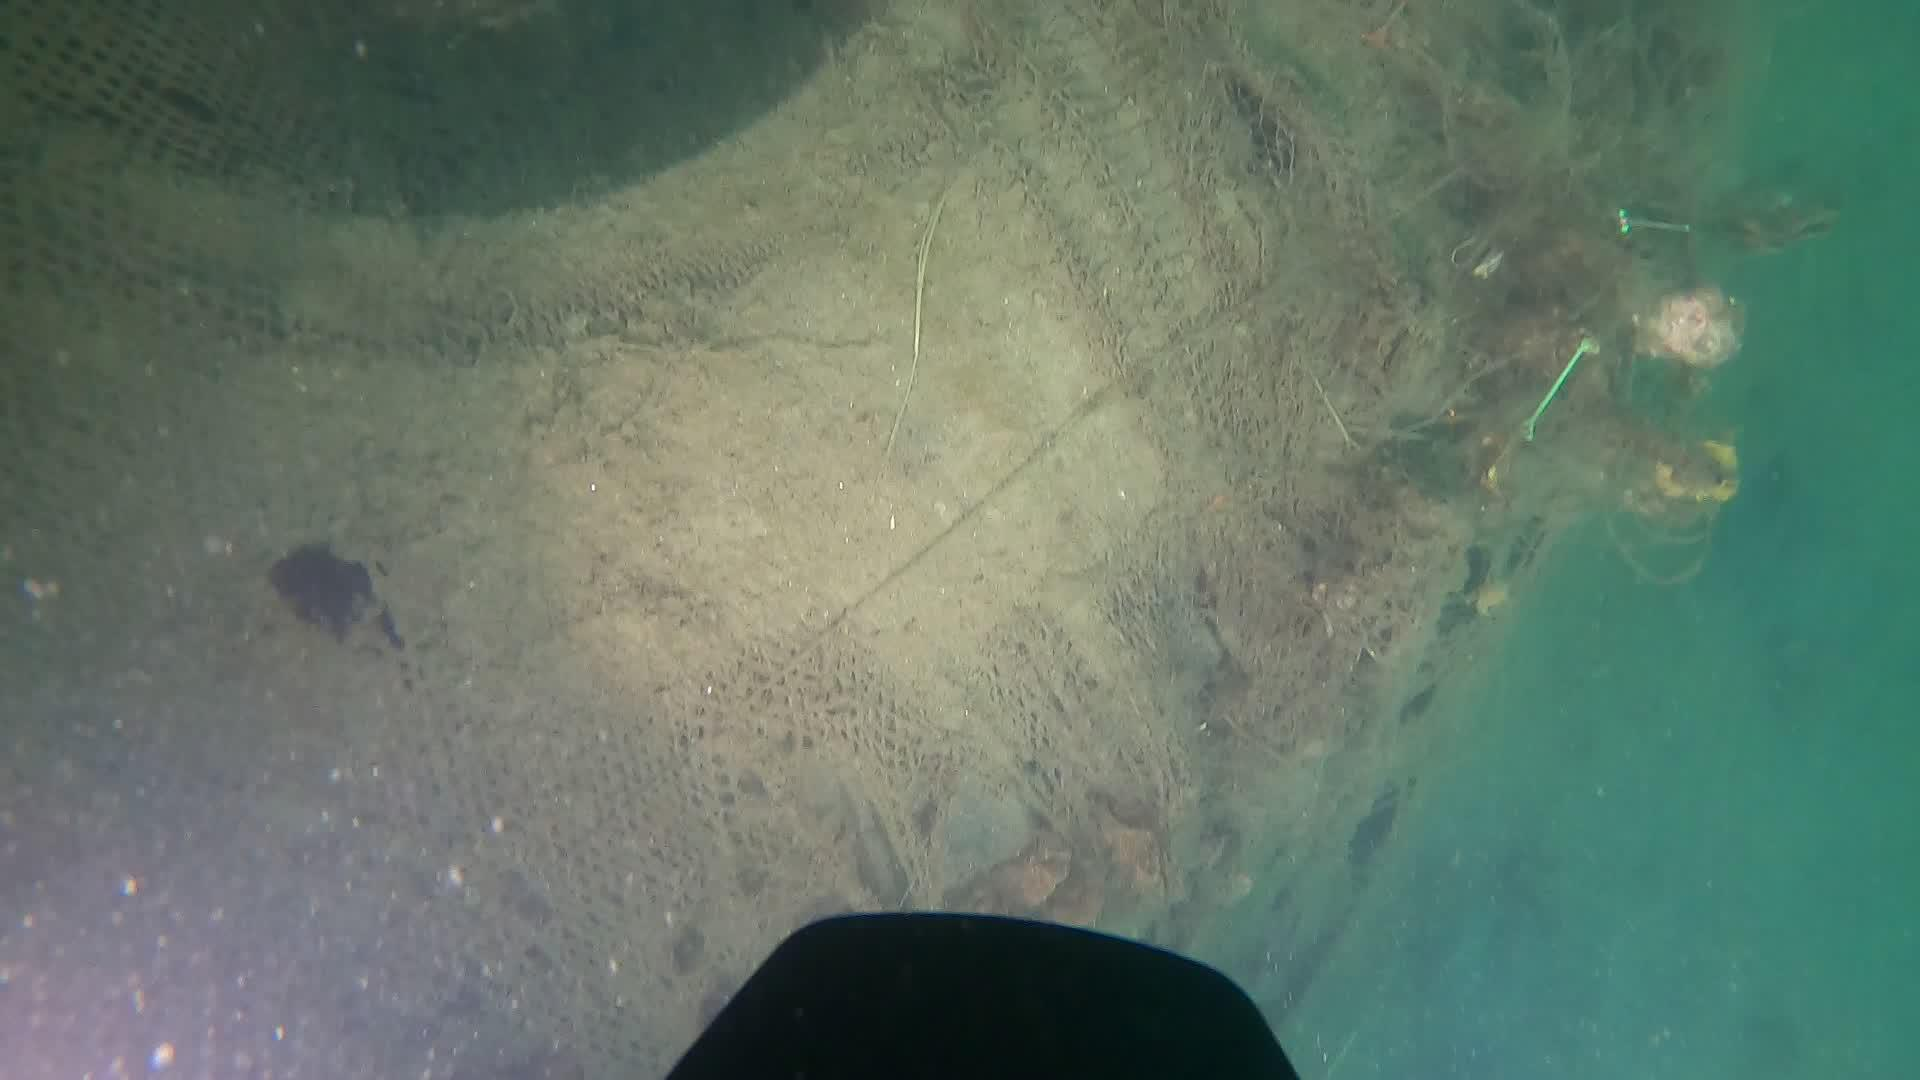fish net: (967, 0, 1366, 444), (389, 636, 951, 947), (0, 0, 365, 357)
tire: (0, 0, 1607, 1080)
